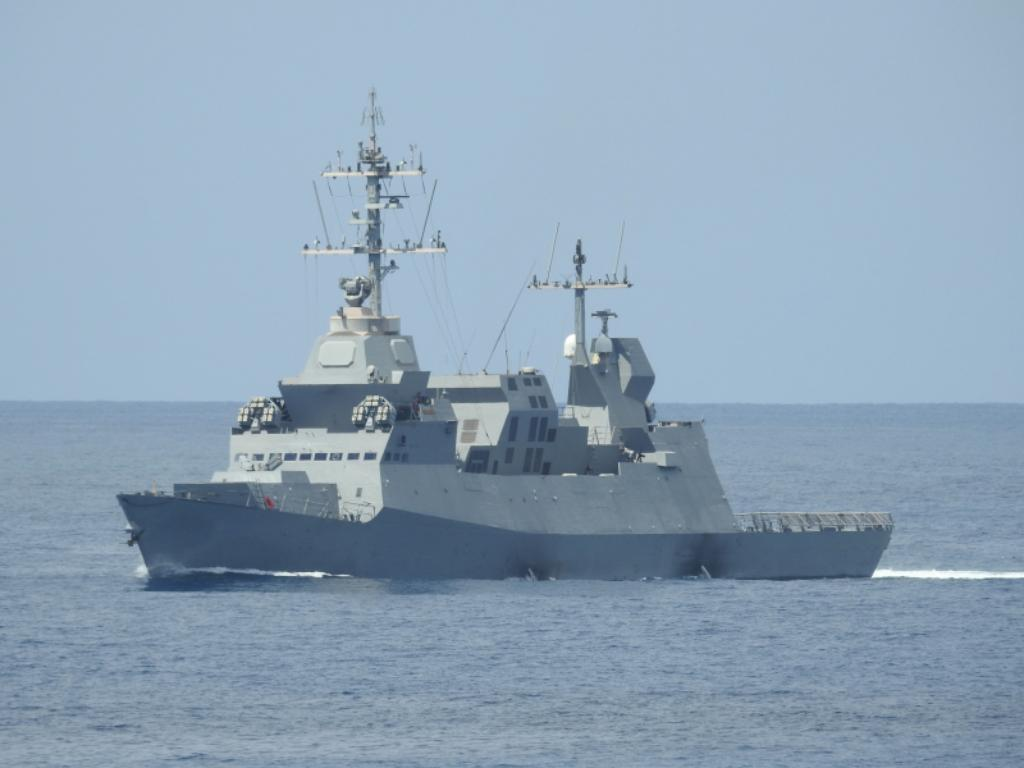Warship: (114, 84, 898, 584)
